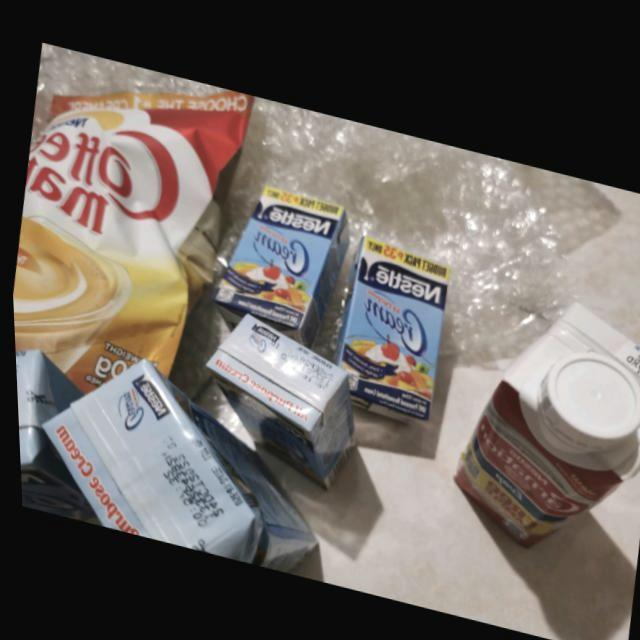plastic_sachet: (10, 86, 254, 395)
